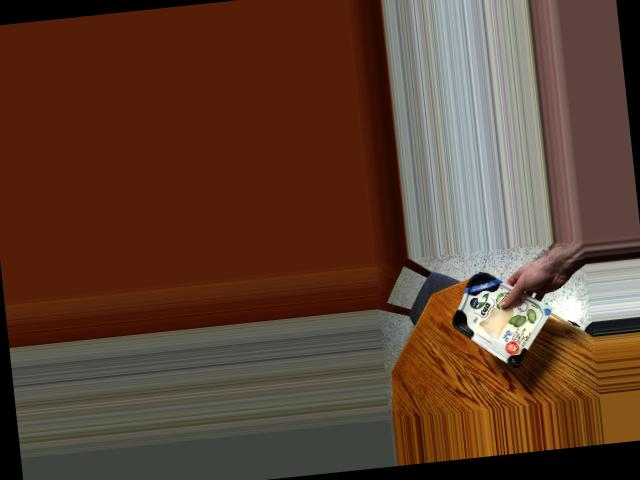cheese: (447, 264, 540, 365)
